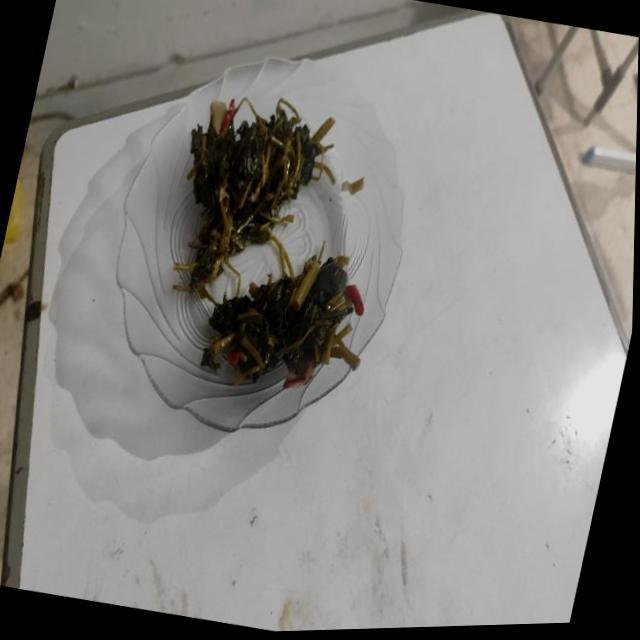tumis_kangkung: (174, 98, 335, 297), (202, 242, 364, 388)
